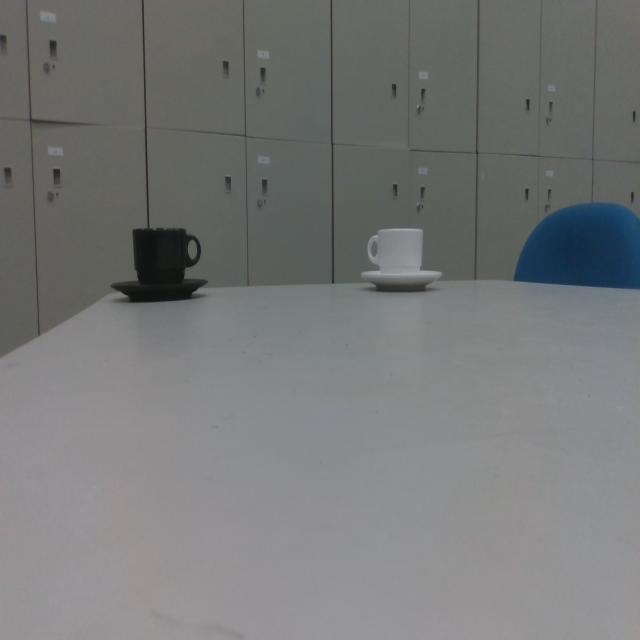black: (110, 223, 210, 304)
white: (360, 224, 444, 294)
